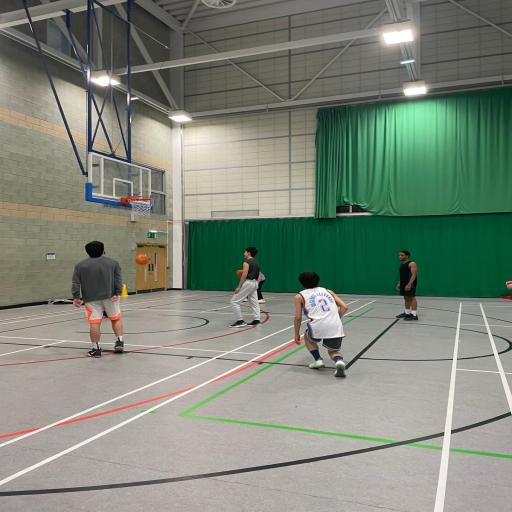hoops: (116, 193, 161, 223)
